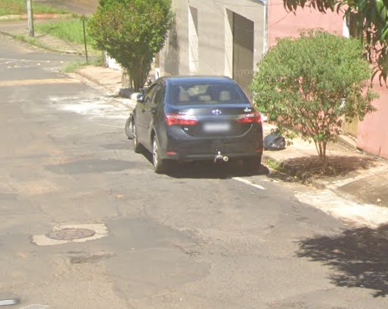car: (129, 66, 269, 177)
